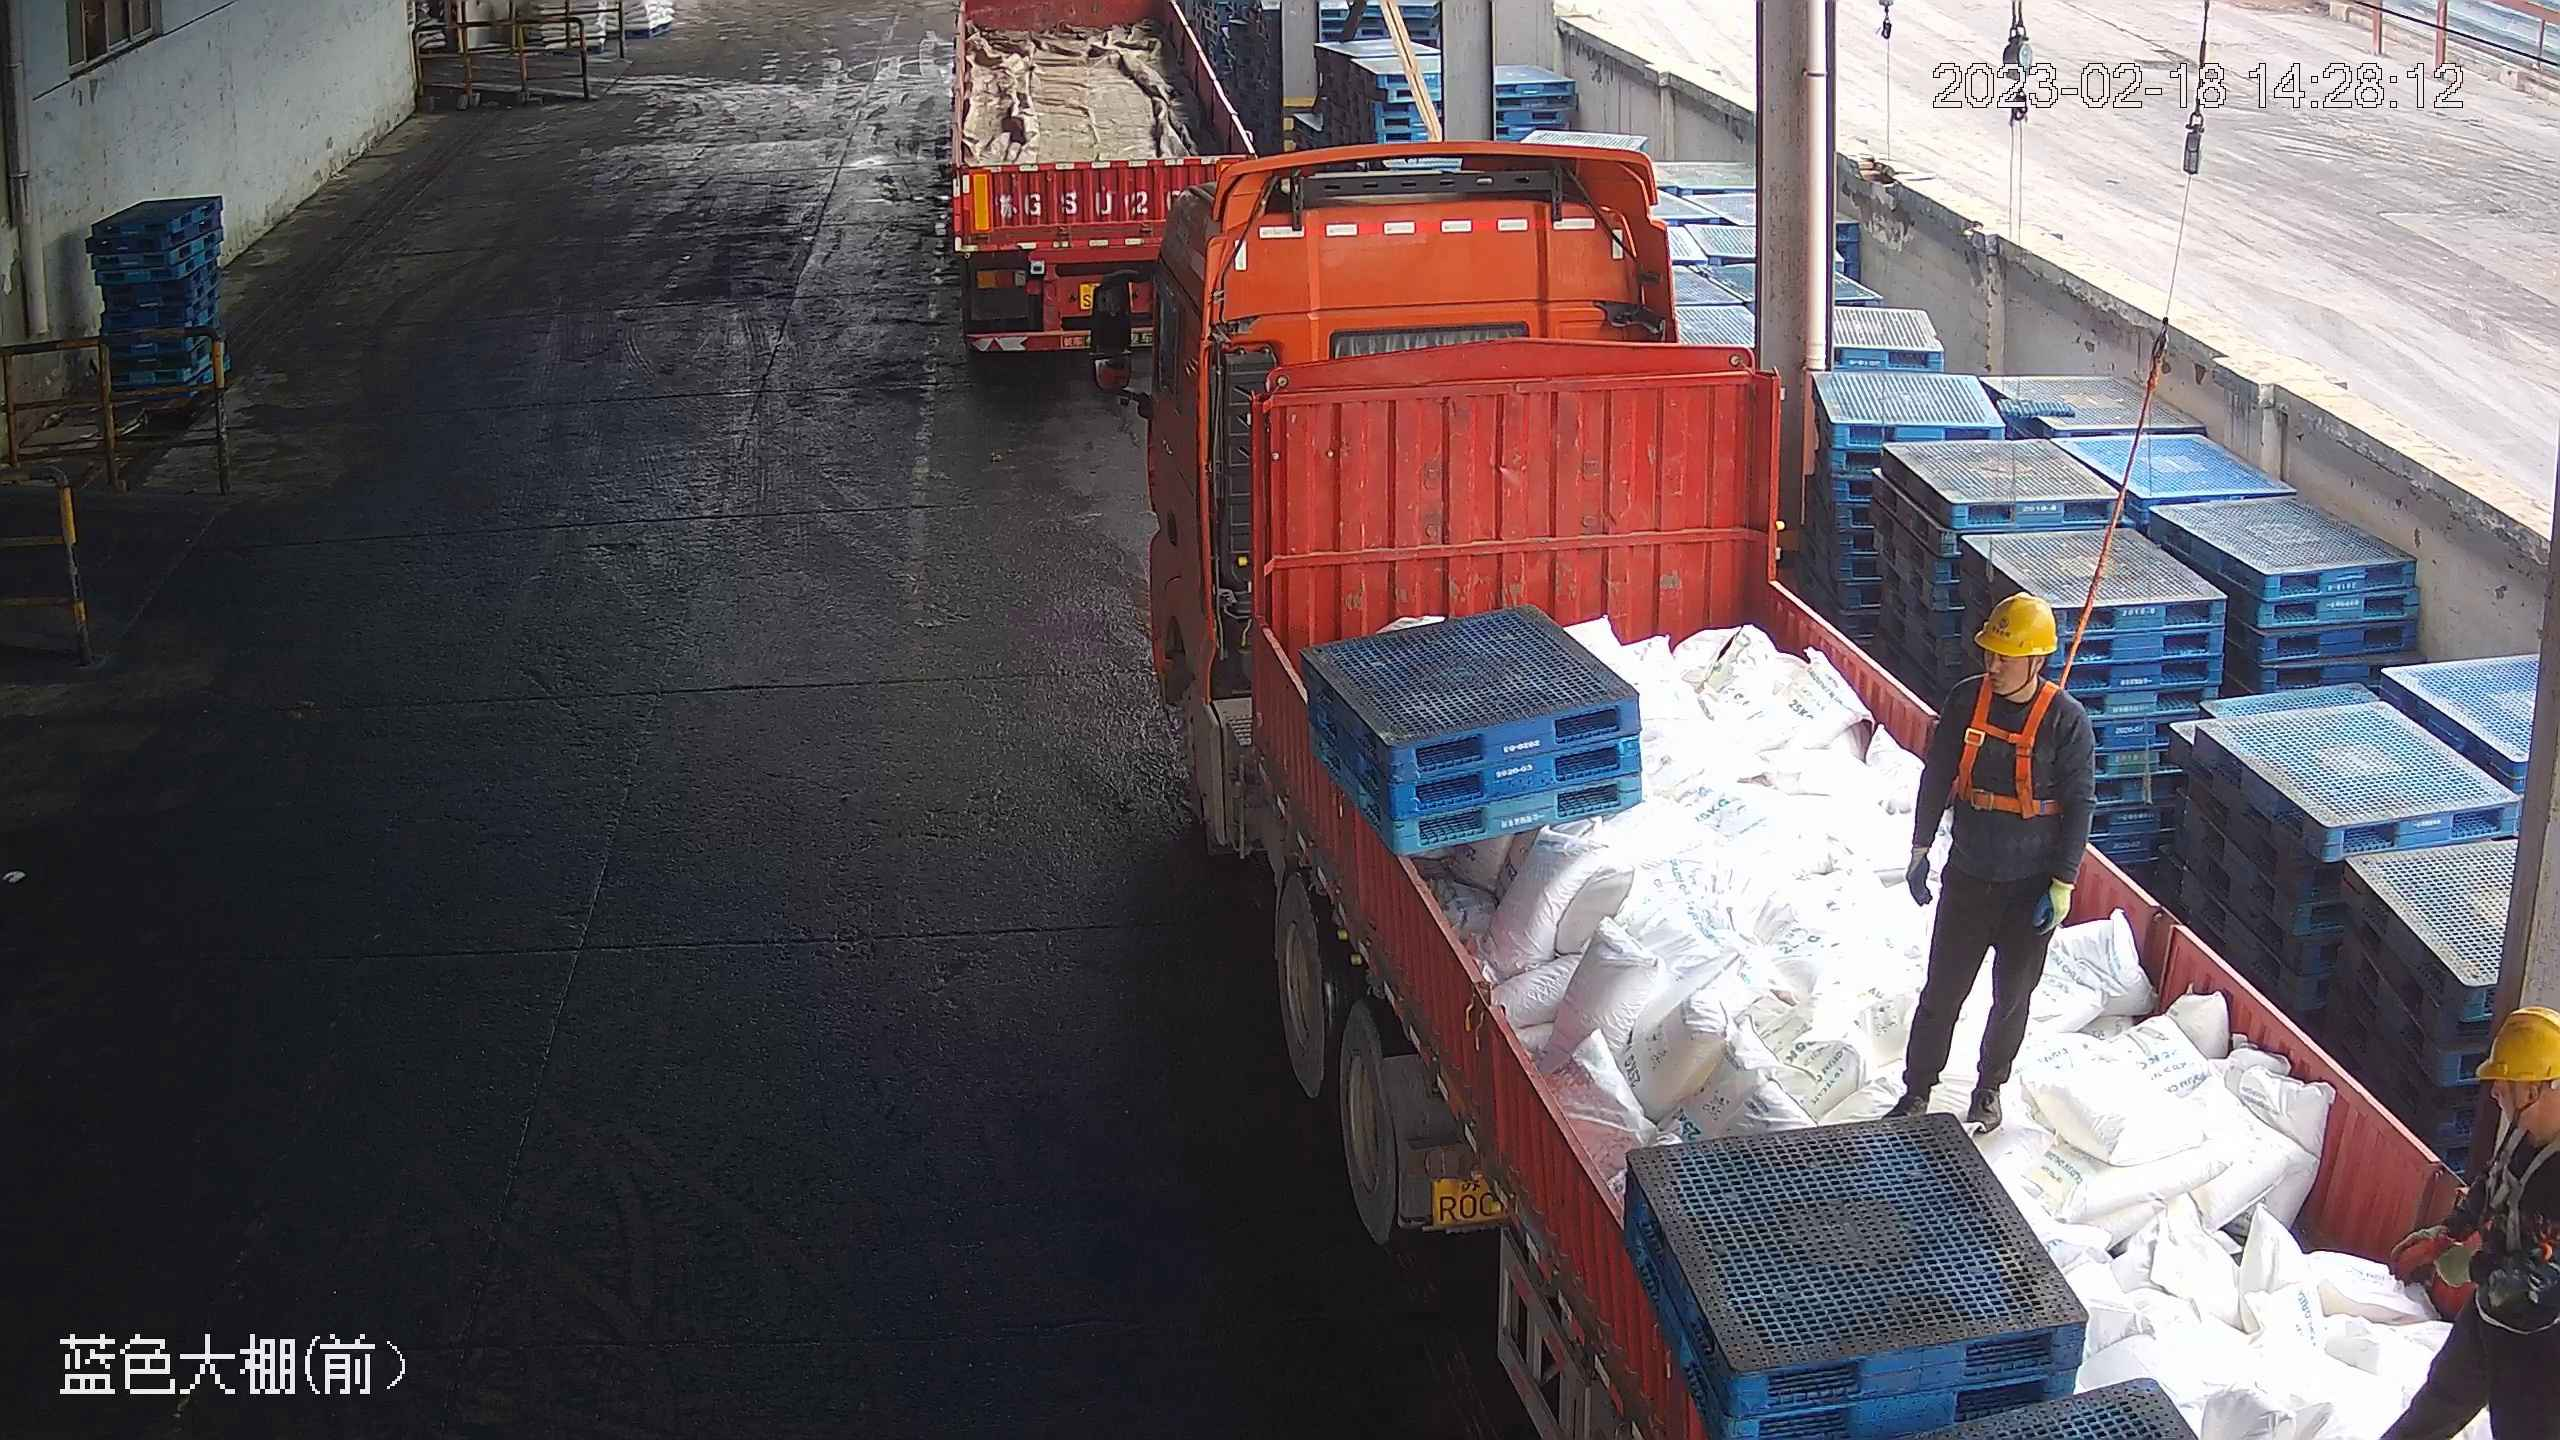belt: (1952, 665, 2071, 818), (2484, 1127, 2560, 1255)
head: (1927, 588, 2095, 763), (2467, 1002, 2560, 1191)
helmet: (2470, 1004, 2560, 1087), (1973, 590, 2060, 658)
people: (1882, 587, 2096, 1138), (2382, 1003, 2560, 1440)
truck: (1085, 136, 2552, 1440), (948, 1, 1260, 355)
